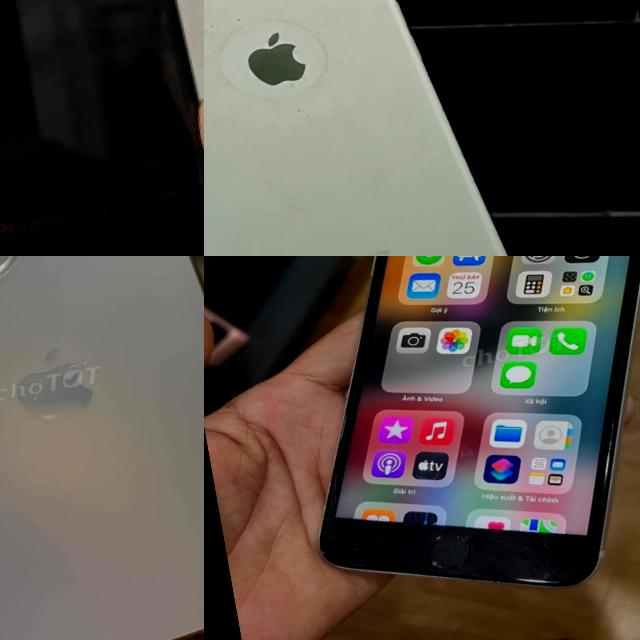gen_12_13: (0, 256, 204, 640)
gen_6: (320, 256, 640, 586), (204, 0, 546, 256)
gen_7_8: (0, 0, 204, 256)
scratch: (204, 6, 260, 55), (204, 83, 244, 118)
